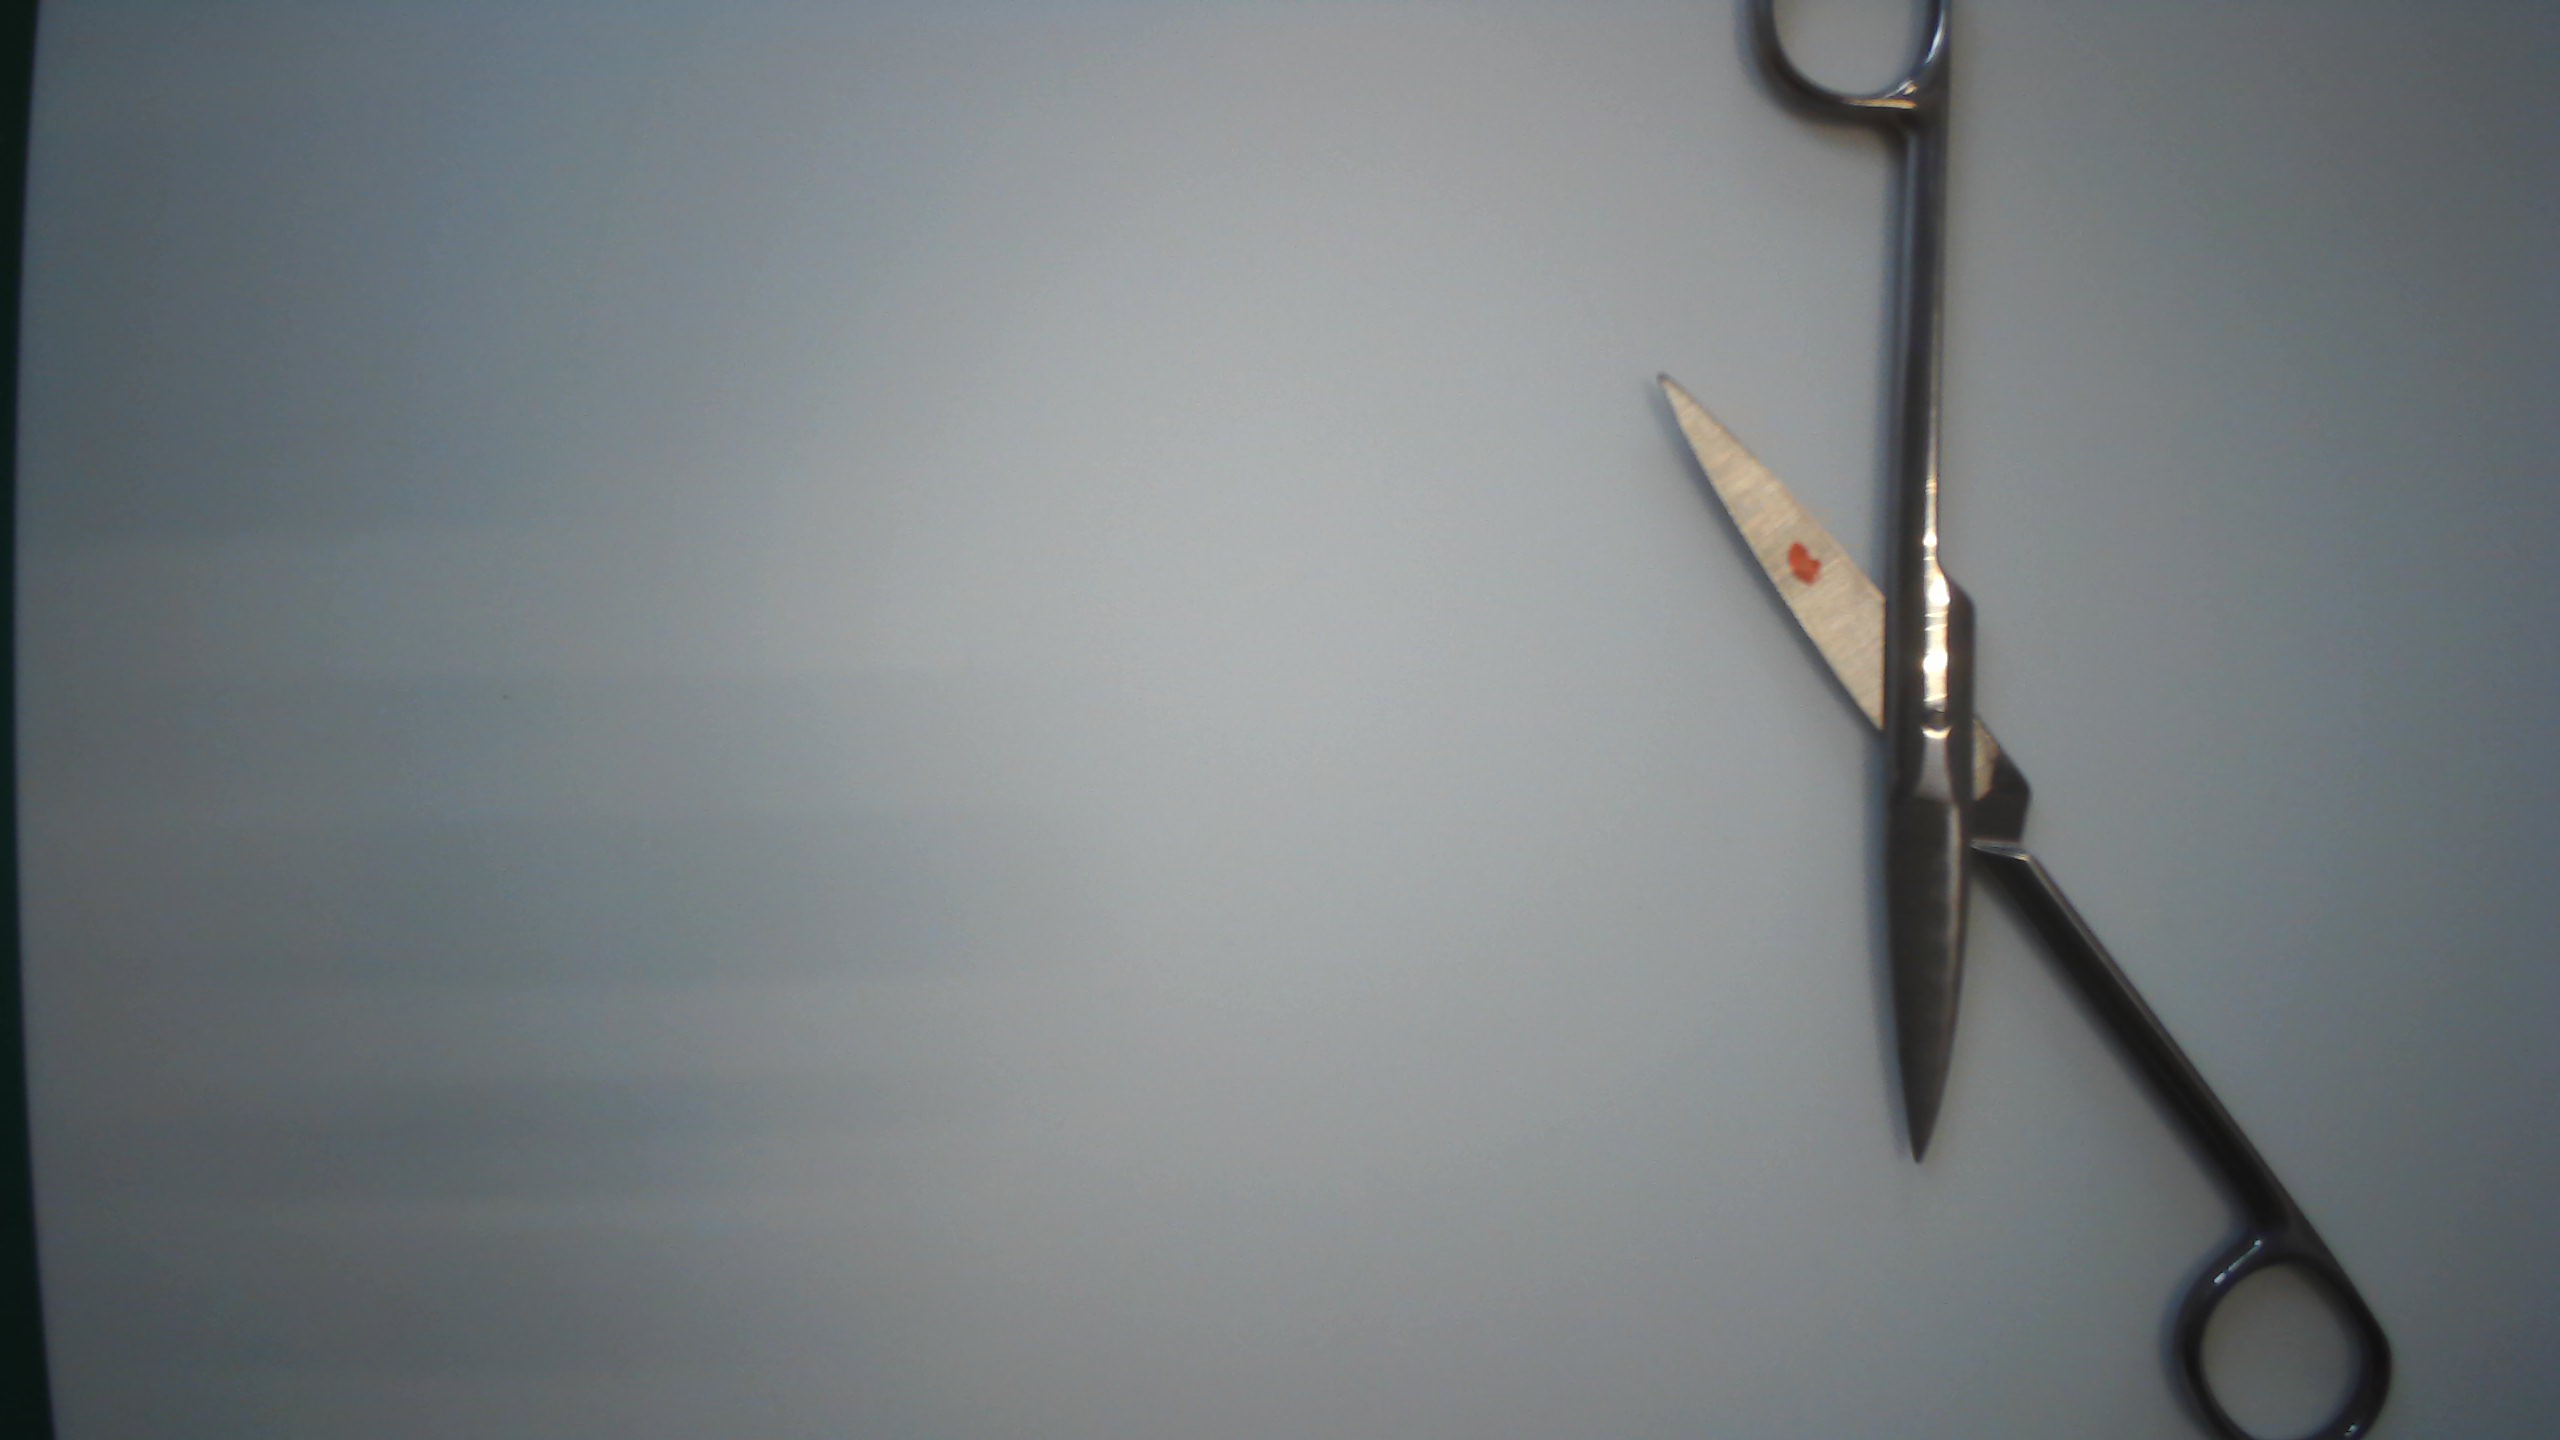Stain: (1783, 533, 1830, 605)
